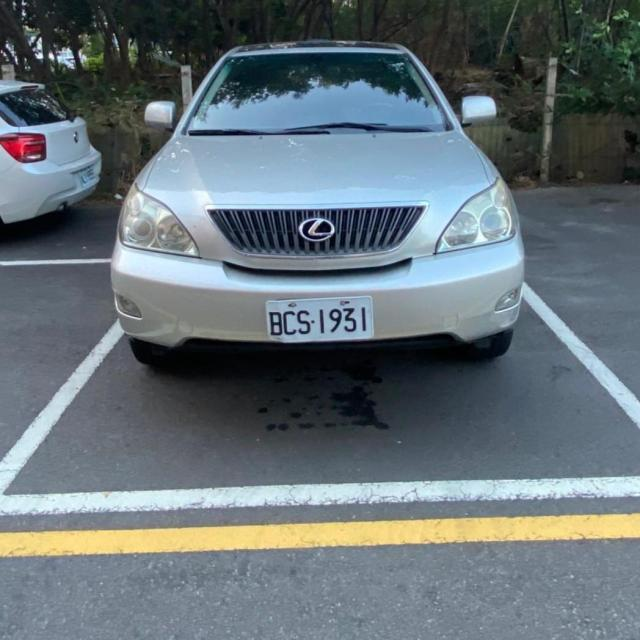W: (264, 294, 374, 346)
